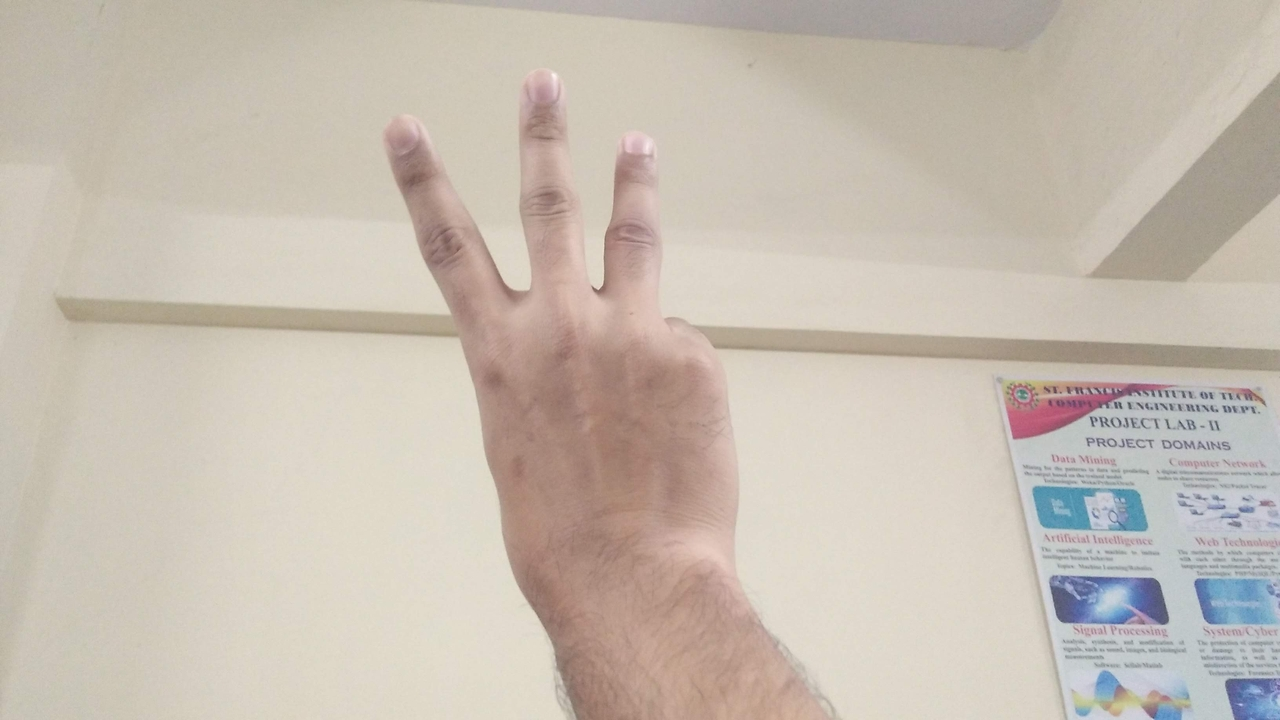fingertip: (372, 110, 434, 168), (514, 60, 572, 112), (608, 122, 662, 172)
